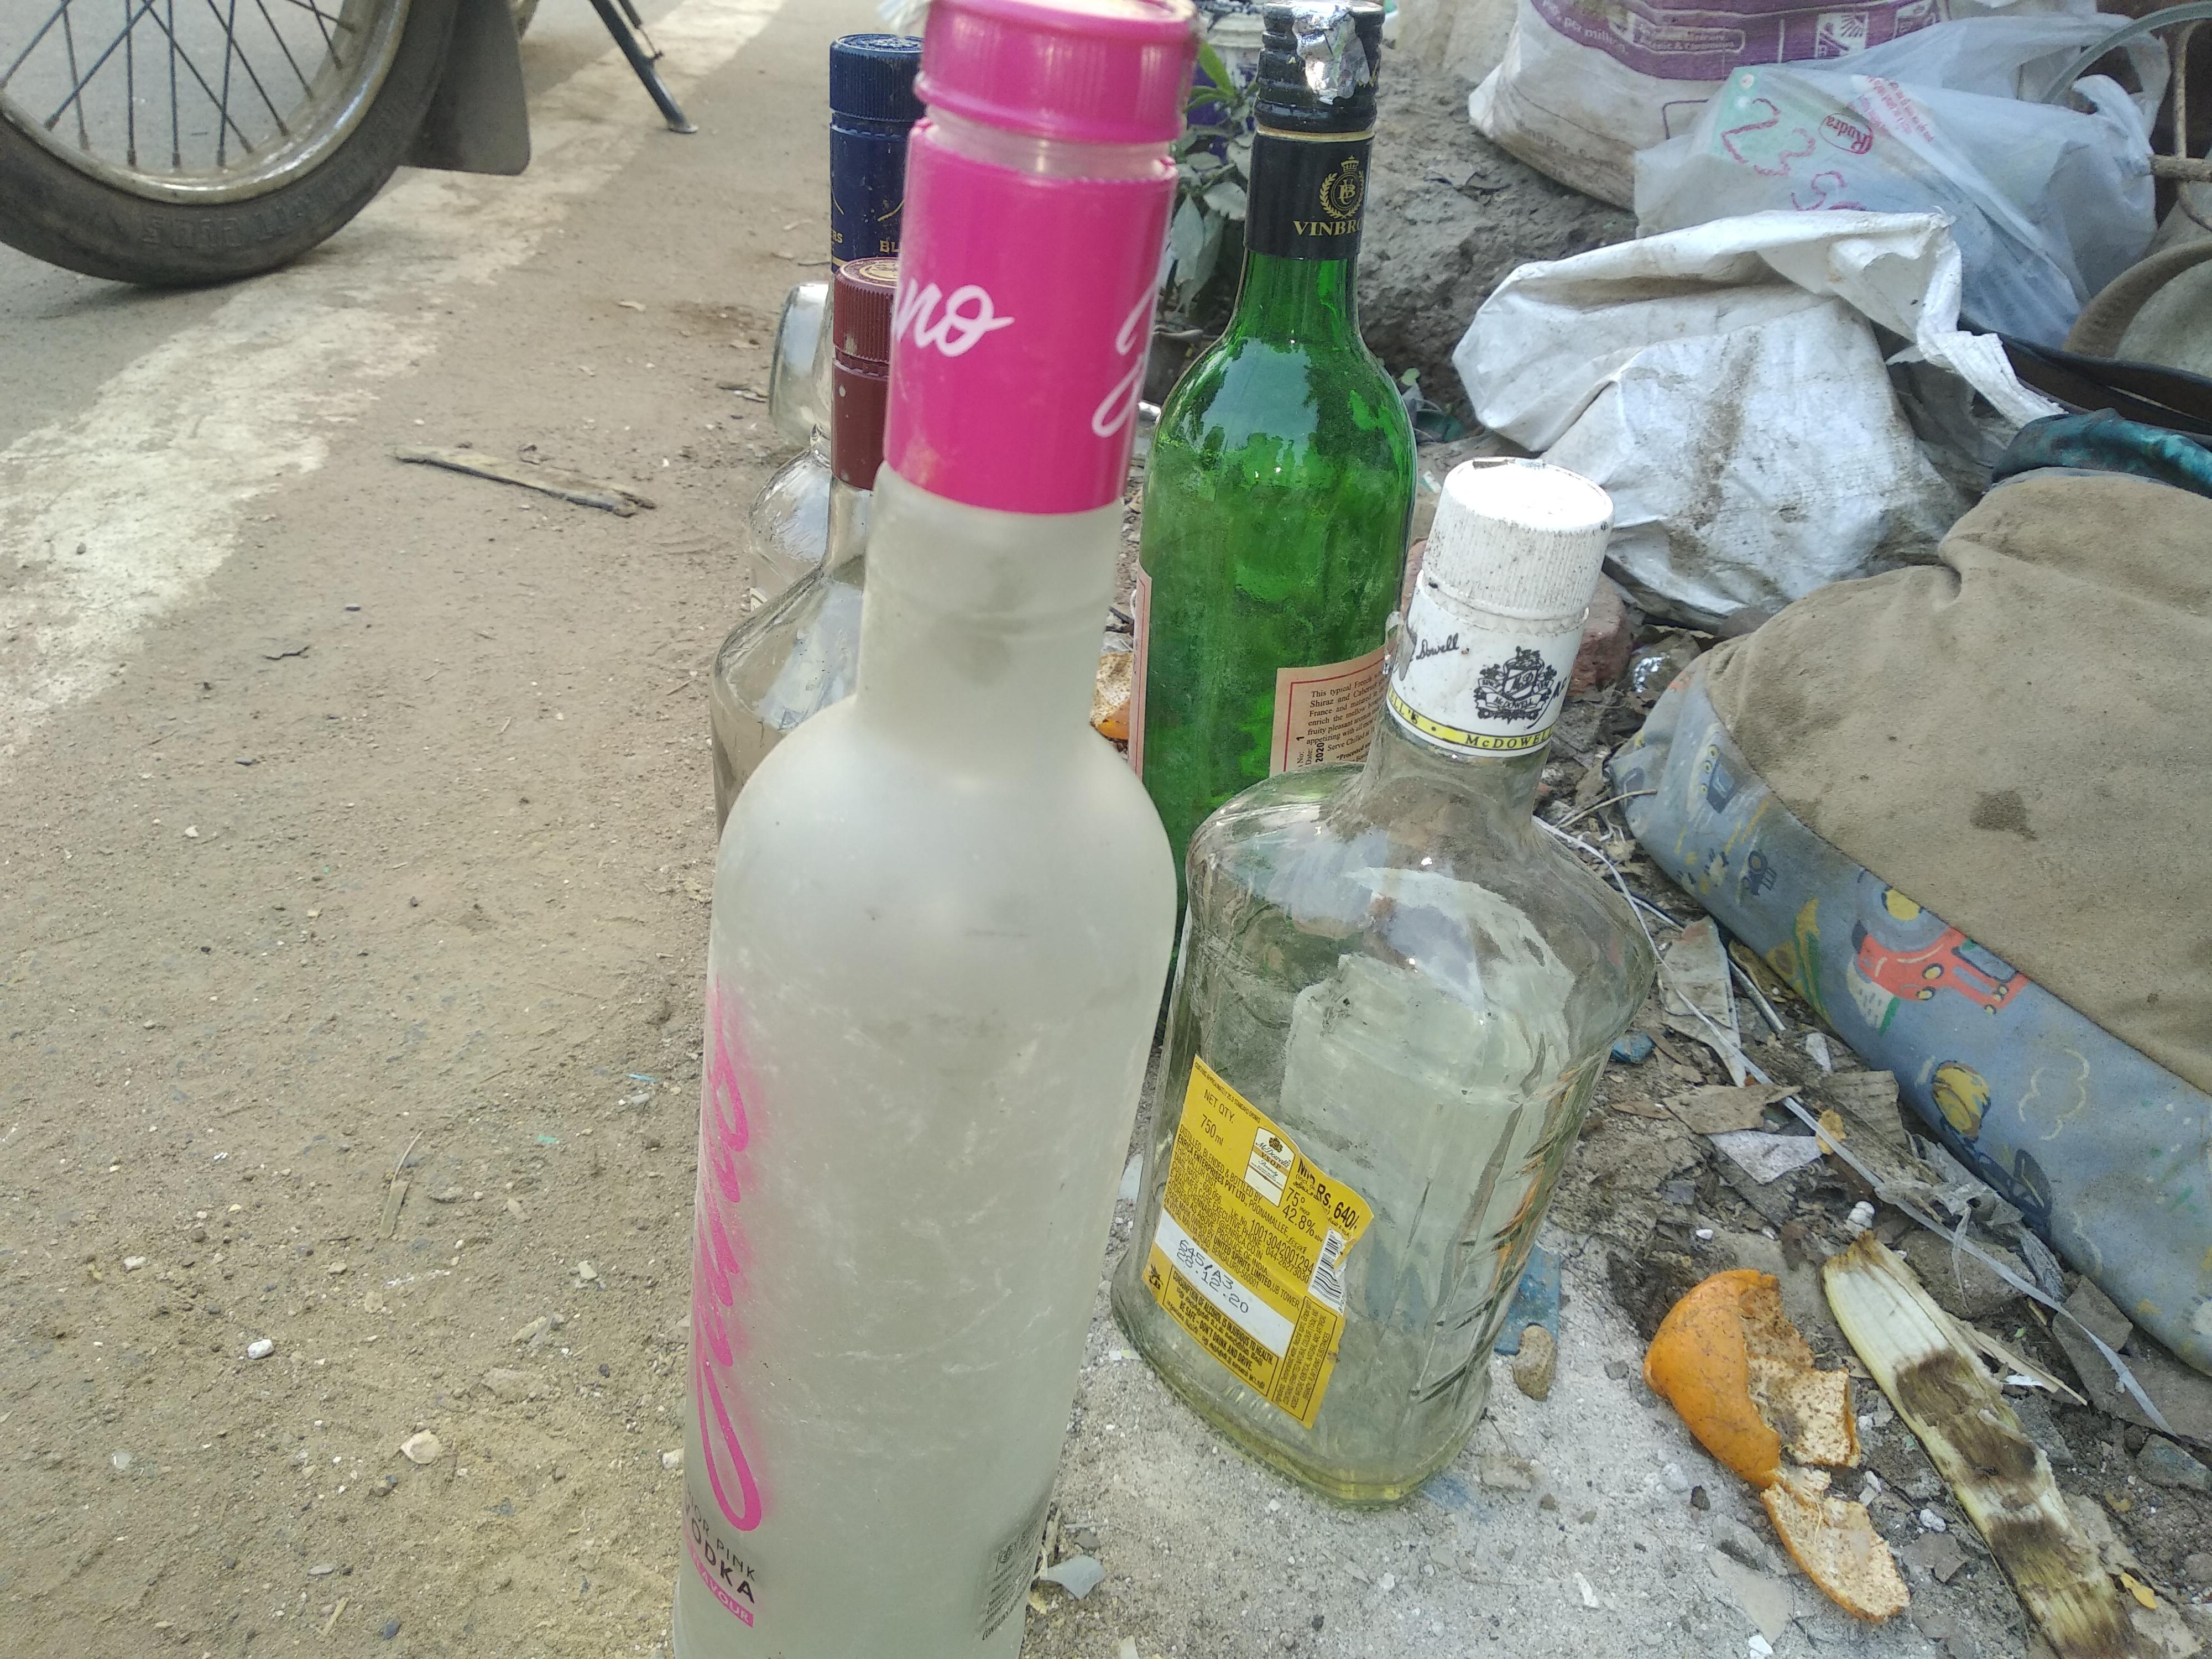organic: (648, 9, 2212, 1659)
